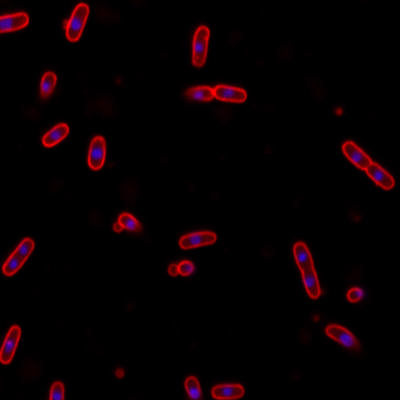CAM: (339, 138, 395, 190), (290, 241, 322, 300), (0, 236, 37, 276), (63, 2, 90, 43), (0, 323, 23, 367), (189, 24, 211, 67), (175, 229, 218, 250), (85, 134, 107, 171), (40, 123, 71, 149), (209, 381, 246, 400)
Oblique: (182, 83, 247, 108), (322, 322, 364, 354), (110, 210, 145, 236), (37, 69, 59, 103), (163, 259, 195, 279), (345, 284, 365, 306)
Vesicle: (113, 365, 126, 379), (331, 105, 345, 117), (309, 311, 322, 323)
